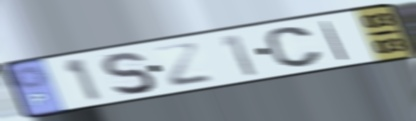1: (63, 56, 105, 103), (220, 31, 260, 78)
C: (263, 25, 325, 70)
I: (319, 19, 351, 62)
S: (100, 50, 158, 98)
Z: (151, 40, 217, 89)
